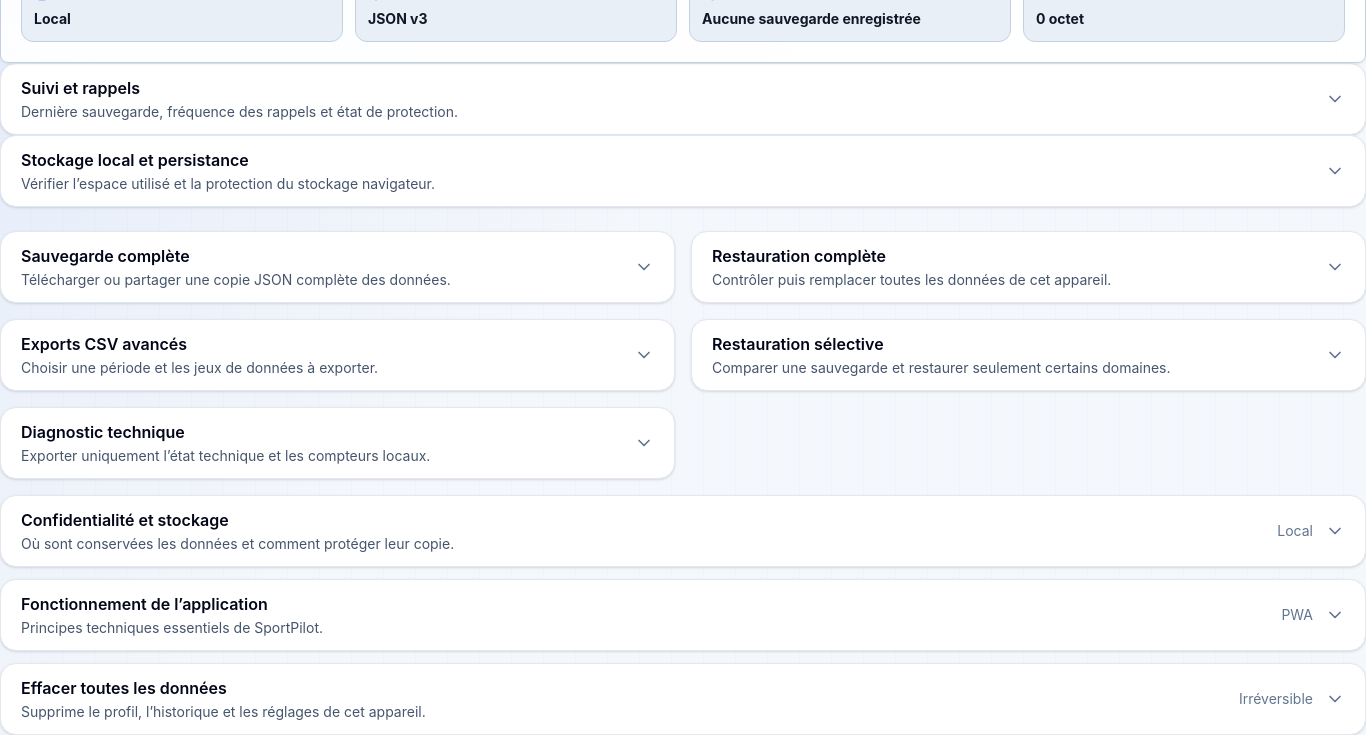
Test: BackupPage › ouvre une confirmation dédiée avant la suppression
(page scrolled)
Step 1. Click the text "Effacer toutes les données" → (124, 688), box [21,678,227,698]
(page scrolled)
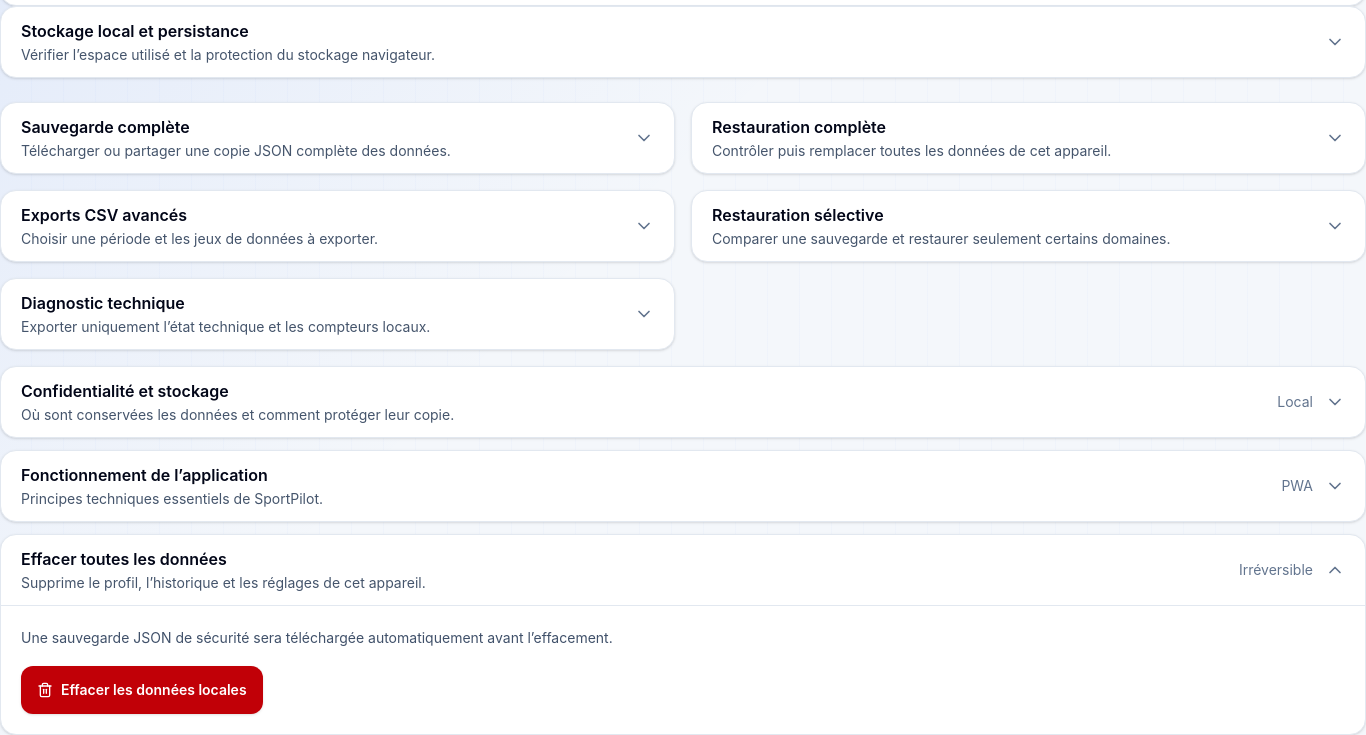
Step 2. Click the button "Effacer les données locales" → (142, 690), box [21,666,263,714]
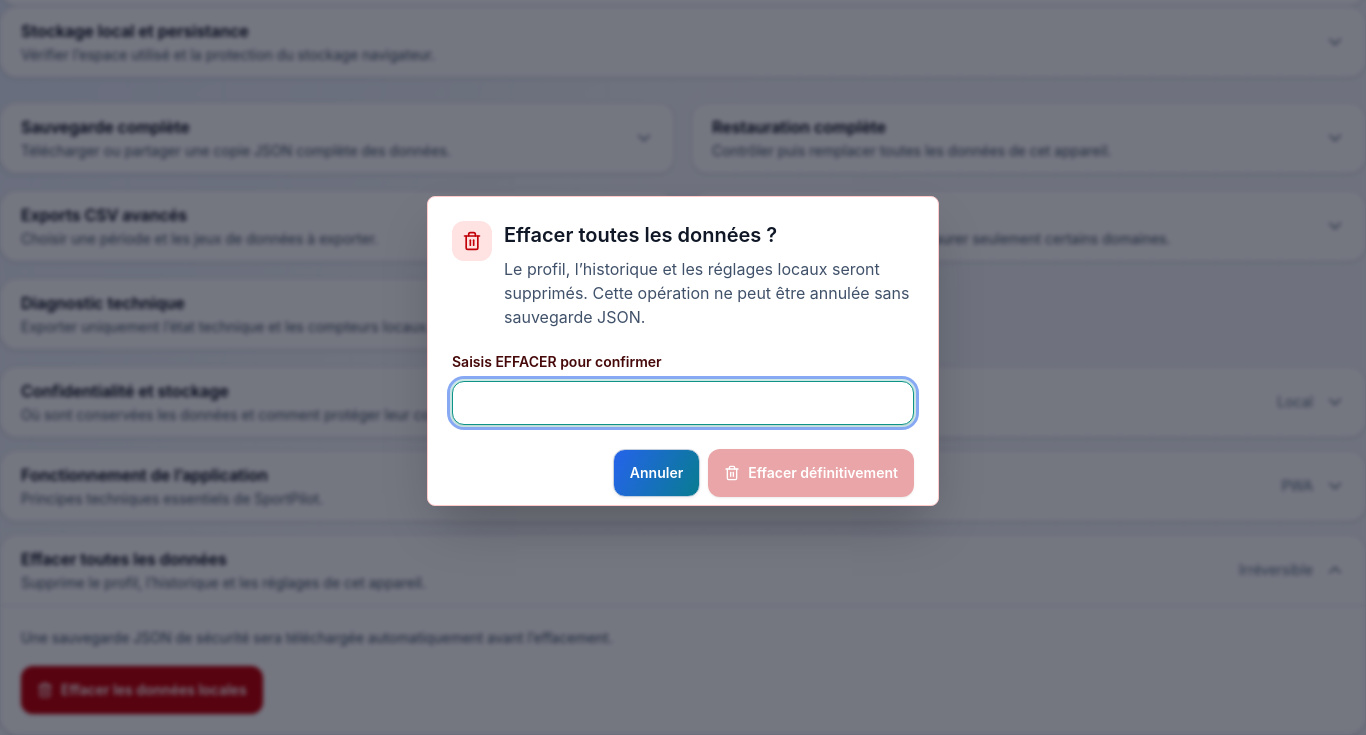
Expected: the dialog "Effacer toutes les données ?" is shown, [427,196,939,506]
Expected: the button "Effacer définitivement" is disabled, [708,449,914,497]
